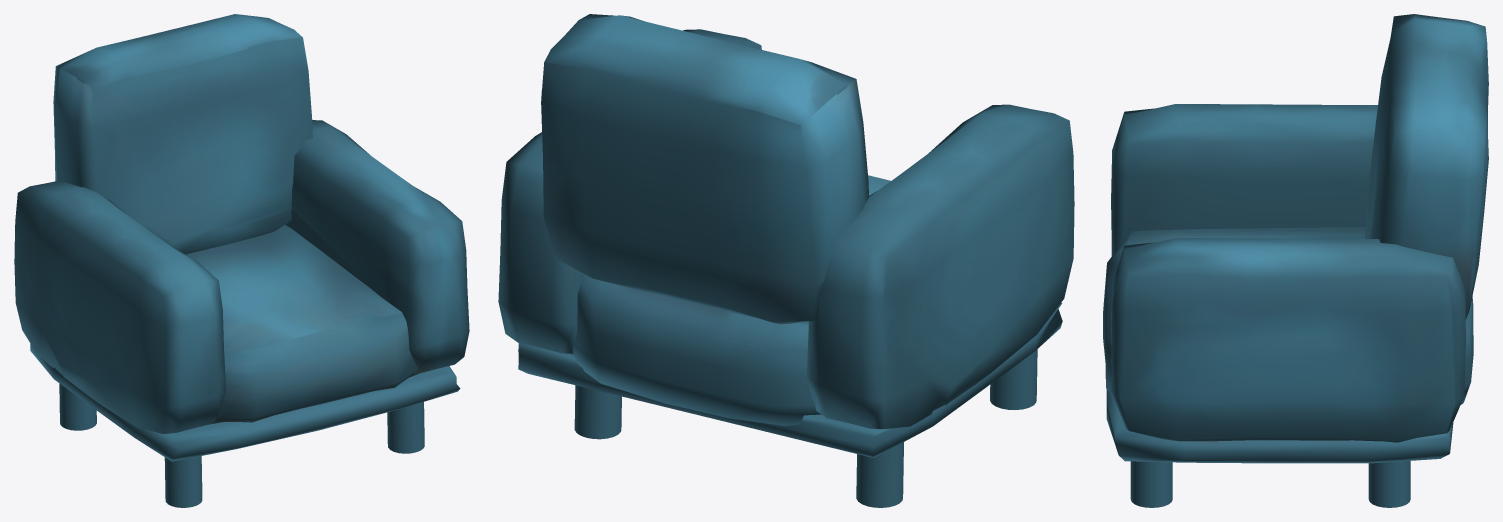
File: sillon.fbx
The picture shows the model from 3 angles, left to right: view 1: azimuth 30°, elevation 25°; view 2: azimuth 150°, elevation 25°; view 3: azimuth 270°, elevation 25°; orthographic projection. The views are drawn at different scales.
Parts seen in each view (by area): view 1: pasted__pCube1; view 2: pasted__pCube1; view 3: pasted__pCube1.
Boxes of the visible parts, left/top/right/bottom form: pasted__pCube1: left=14, top=14, right=469, bottom=507; pasted__pCube1: left=498, top=14, right=1074, bottom=507; pasted__pCube1: left=1103, top=14, right=1488, bottom=507.
Size of the model in its own units: 500 by 521 by 472.
1 material, 1 textured.
